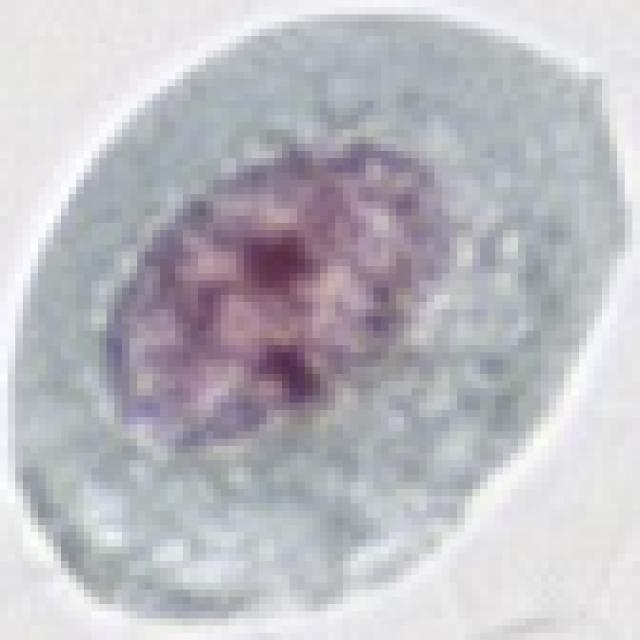nucleus: (42, 98, 495, 483)
